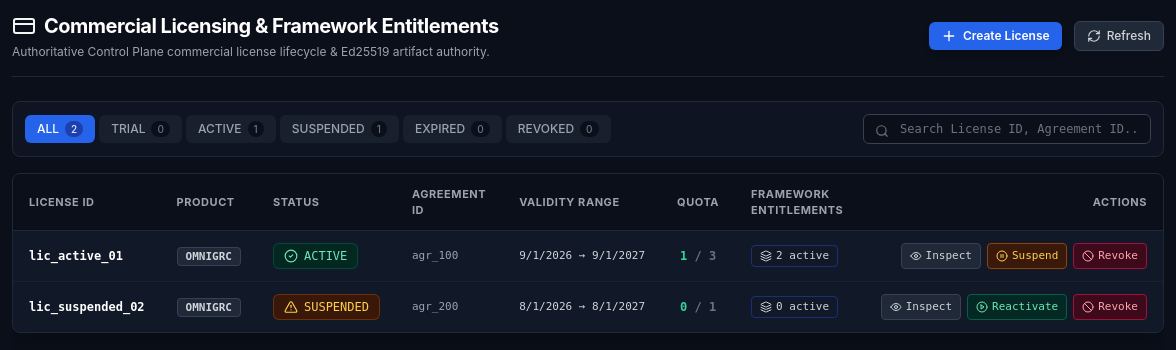
CP-6.3 Commercial Licensing & Entitlements Control UI › License List Page (/licensing) › 5. should filter licenses by status tab controls
Expected: the text "lic_active_01" is shown, 29,248 -> 123,264
Click the button "SUSPENDED 1". click: (339, 129)
box: 280,115 -> 399,143
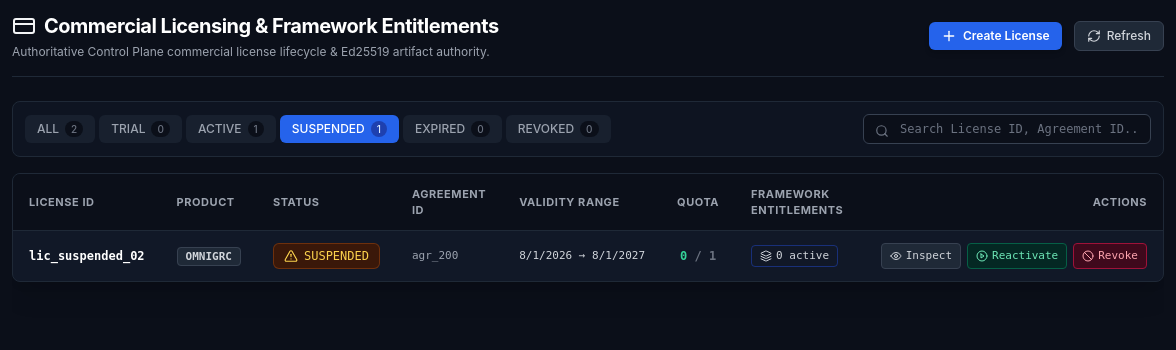
Expected: the text "lic_suspended_02" is shown, 29,248 -> 145,264
Result: the link "lic_active_01" is gone
